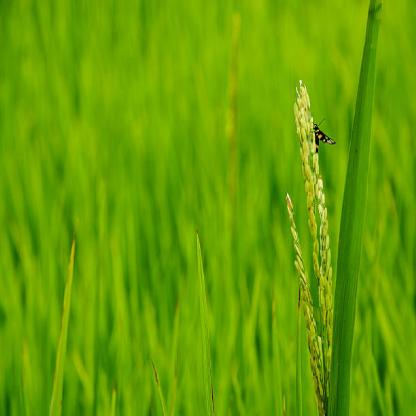sawfly: (307, 117, 337, 162)
